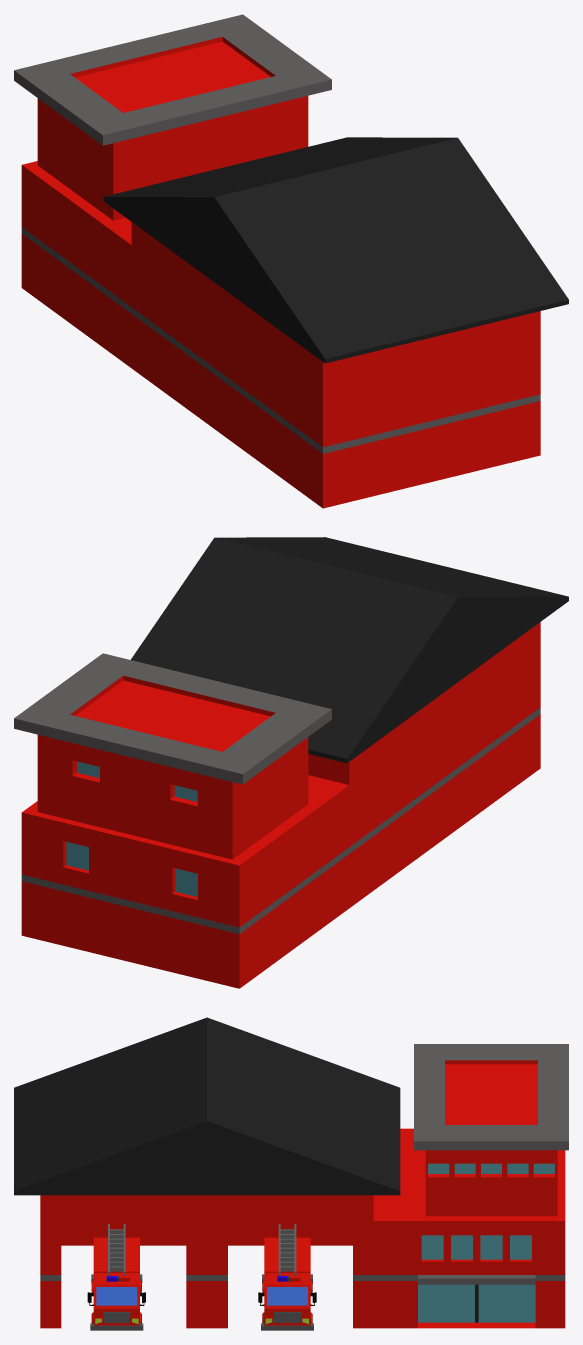
File: Bomberos.fbx
3 views of the same model, one above another, from view 1: azimuth 30°, elevation 25°; view 2: azimuth 150°, elevation 25°; view 3: azimuth 270°, elevation 25° (orthographic). The views are drawn at different scales.
Parts seen in each view (by area): view 1: FireStation; view 2: FireStation; view 3: FireStation, Firetruck.001, Firetruck.
Boxes of the visible parts, x1,y1,x2,y2 form: FireStation: [14, 14, 568, 508]; FireStation: [14, 537, 568, 988]; FireStation: [14, 1017, 568, 1328]; Firetruck.001: [258, 1224, 316, 1330]; Firetruck: [87, 1224, 145, 1330].
Size of the model in its own units: 694 by 648 by 1531.
